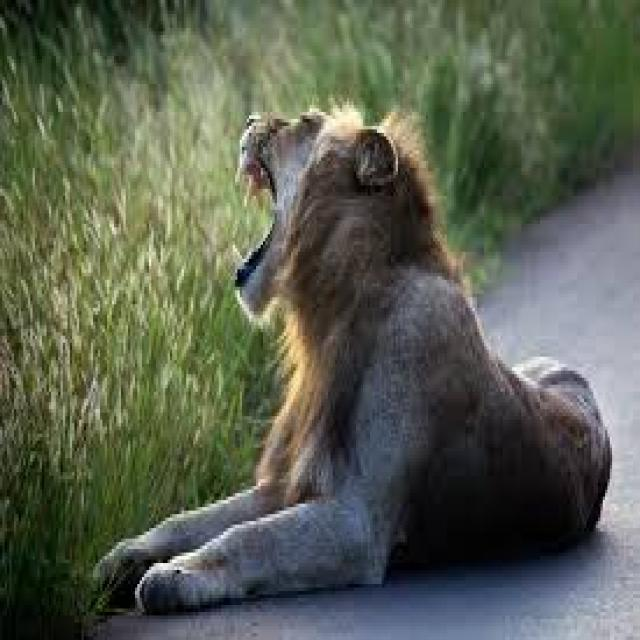Lion: (88, 106, 611, 622)
